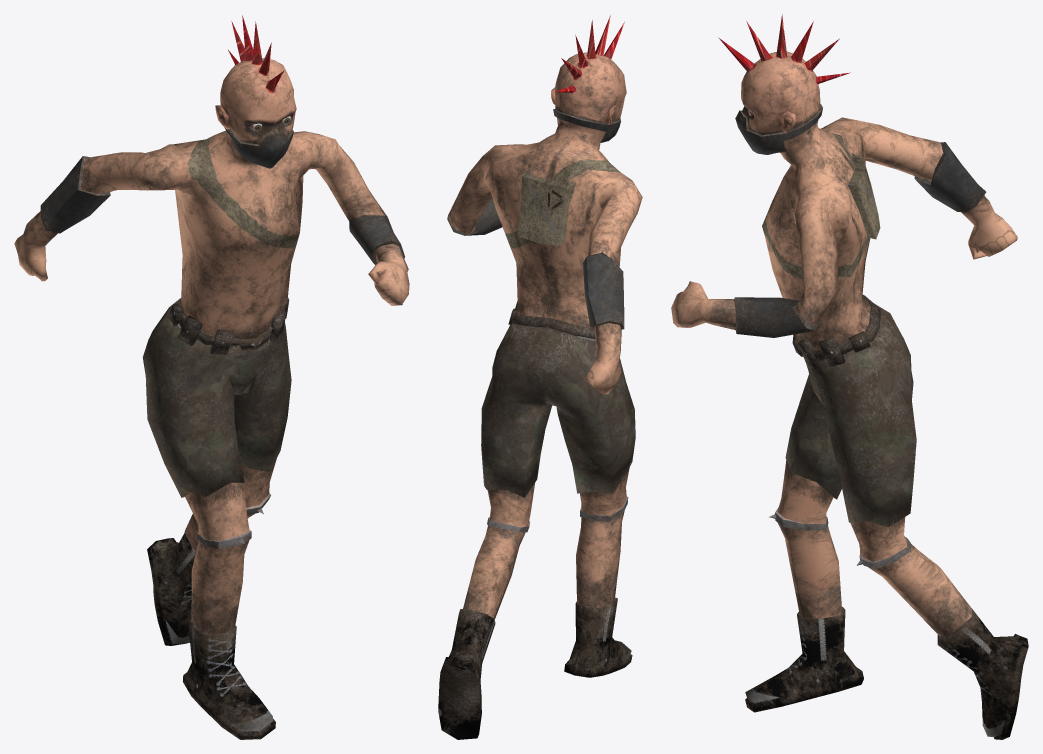
Rendered from Anim_correr_npc2.0031.obj.
The picture shows the model from 3 angles, left to right: view 1: azimuth 30°, elevation 25°; view 2: azimuth 150°, elevation 25°; view 3: azimuth 270°, elevation 25°; orthographic projection. The views are drawn at different scales.
Parts seen in each view (by area): view 1: Anim_correr_npc2; view 2: Anim_correr_npc2; view 3: Anim_correr_npc2.
Boxes of the visible parts, box(x1,y1,x2,y2) form: Anim_correr_npc2: box(14, 15, 409, 739); Anim_correr_npc2: box(438, 15, 642, 739); Anim_correr_npc2: box(671, 14, 1028, 739).
Size of the model in its own units: 4.16 by 10.25 by 4.69.
